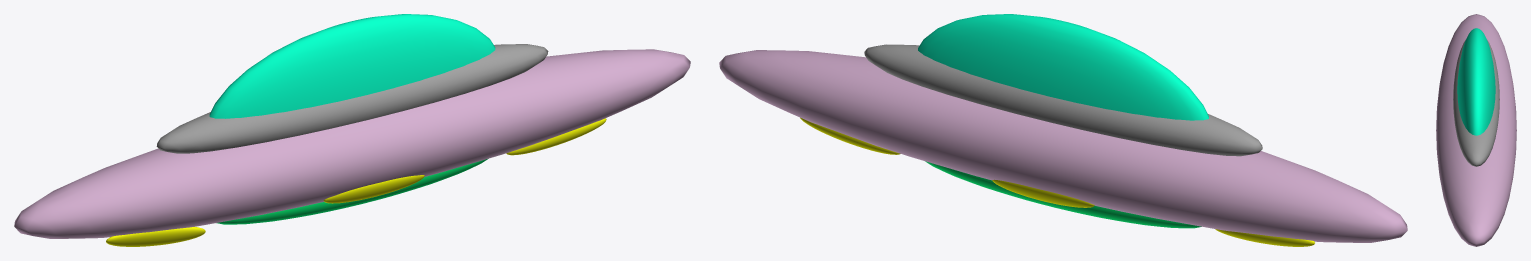
The model's file is UFO.obj.
3 renders of one model, left to right at view 1: azimuth 30°, elevation 25°; view 2: azimuth 150°, elevation 25°; view 3: azimuth 270°, elevation 25°, orthographic. The views are drawn at different scales.
Visible parts, largest first — view 1: 球.008; view 2: 球.008; view 3: 球.008.
Part boxes in pixels (left/top/right/bottom): 球.008: left=14, top=14, right=690, bottom=246; 球.008: left=719, top=14, right=1407, bottom=246; 球.008: left=1436, top=14, right=1516, bottom=246.
Bounding box in the file's own units: 53.29 × 13.59 × 8.04.
Materials: 1 (1 with a texture image).
